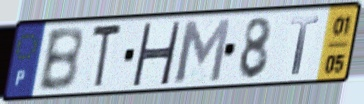8: (238, 15, 275, 81)
B: (35, 25, 85, 94)
H: (129, 21, 184, 86)
M: (173, 16, 233, 85)
T: (90, 21, 125, 92), (288, 14, 321, 77)
